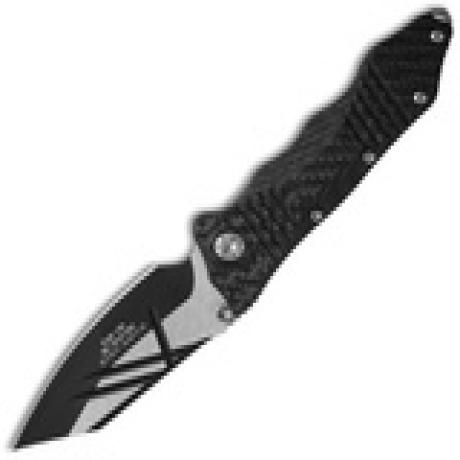weapon: (2, 4, 460, 459)
